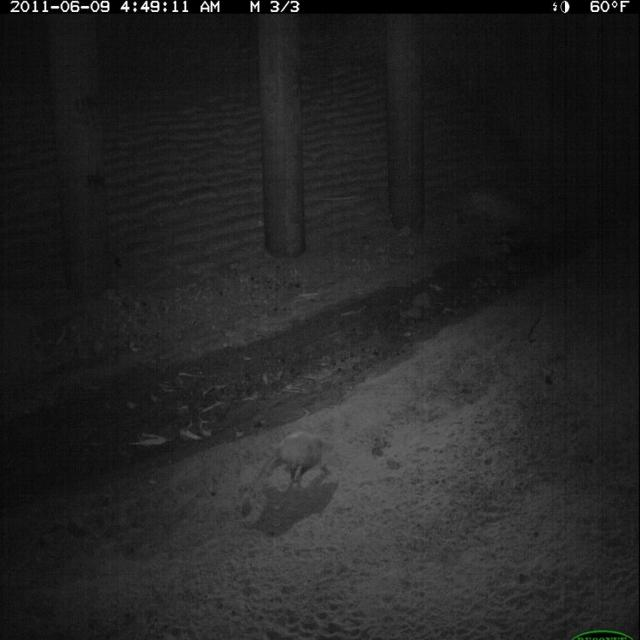opossum: (261, 425, 342, 492)
